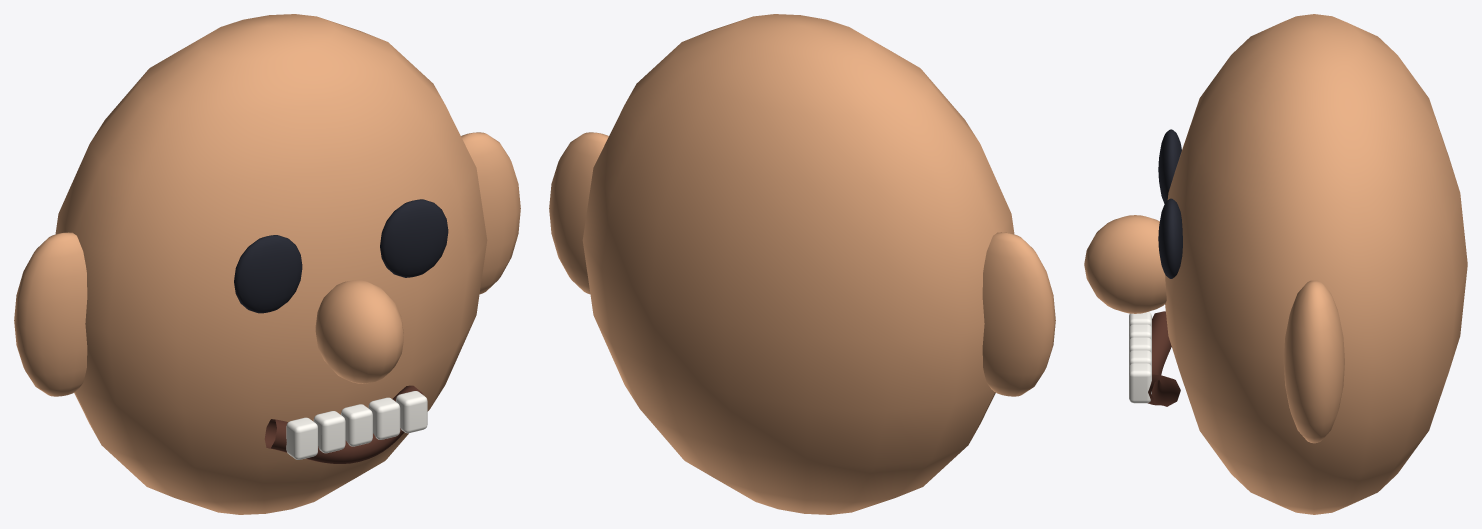
Rendered from word-teeth.glb.
3 views of the same model, side by side, from view 1: azimuth 30°, elevation 25°; view 2: azimuth 150°, elevation 25°; view 3: azimuth 270°, elevation 25° (orthographic). The views are drawn at different scales.
Visible parts, largest first — view 1: head, ear, nose, ear.001, eye, eye.001, mouth, tooth, tooth.001, tooth.002, tooth.004, tooth.003; view 2: head, ear, ear.001; view 3: head, ear.001, nose, mouth, eye.001, eye, tooth.004.
Part boxes in pixels (<box>): head: <box>55,14,487,514</box>; ear: <box>14,232,87,396</box>; nose: <box>315,280,403,383</box>; ear.001: <box>461,132,520,294</box>; eye: <box>234,235,302,313</box>; eye.001: <box>380,199,448,277</box>; mouth: <box>264,385,423,463</box>; tooth: <box>286,417,317,459</box>; tooth.001: <box>313,411,345,453</box>; tooth.002: <box>341,404,372,446</box>; tooth.004: <box>396,391,427,433</box>; tooth.003: <box>368,397,400,439</box>; head: <box>582,14,1014,514</box>; ear: <box>982,232,1055,396</box>; ear.001: <box>549,132,608,294</box>; head: <box>1165,14,1467,514</box>; ear.001: <box>1283,280,1344,443</box>; nose: <box>1084,215,1166,313</box>; mouth: <box>1147,311,1180,406</box>; eye.001: <box>1158,198,1182,278</box>; eye: <box>1158,129,1181,203</box>; tooth.004: <box>1129,363,1151,403</box>.
Bounding box in the file's own units: 1.1 × 1 × 0.75.
